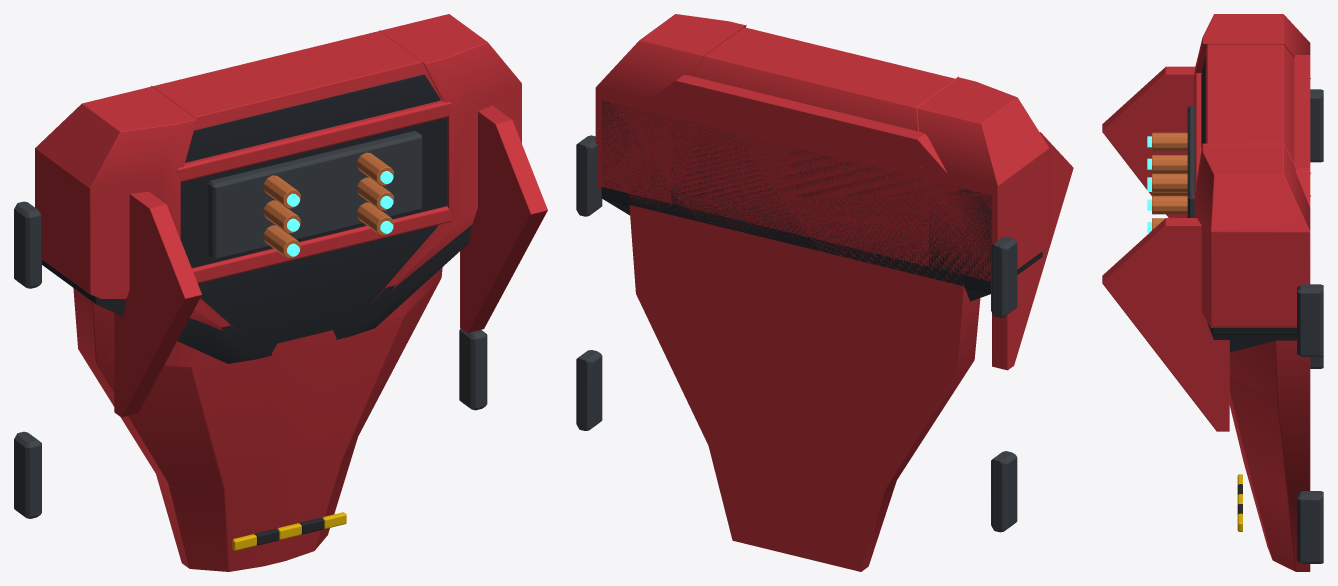
File: BodyBack_Set06_Voltaic.fbx
The picture shows the model from 3 angles, left to right: view 1: azimuth 30°, elevation 25°; view 2: azimuth 150°, elevation 25°; view 3: azimuth 270°, elevation 25°; orthographic projection. The views are drawn at different scales.
Visible parts, largest first — view 1: BodyBack_Set06_Voltaic; view 2: BodyBack_Set06_Voltaic; view 3: BodyBack_Set06_Voltaic.
Part boxes in pixels (<box>): BodyBack_Set06_Voltaic: <box>14,14,547,571</box>; BodyBack_Set06_Voltaic: <box>576,14,1073,571</box>; BodyBack_Set06_Voltaic: <box>1102,14,1323,571</box>.
Bounding box in the file's own units: 1.07 × 1.1 × 0.4945.
